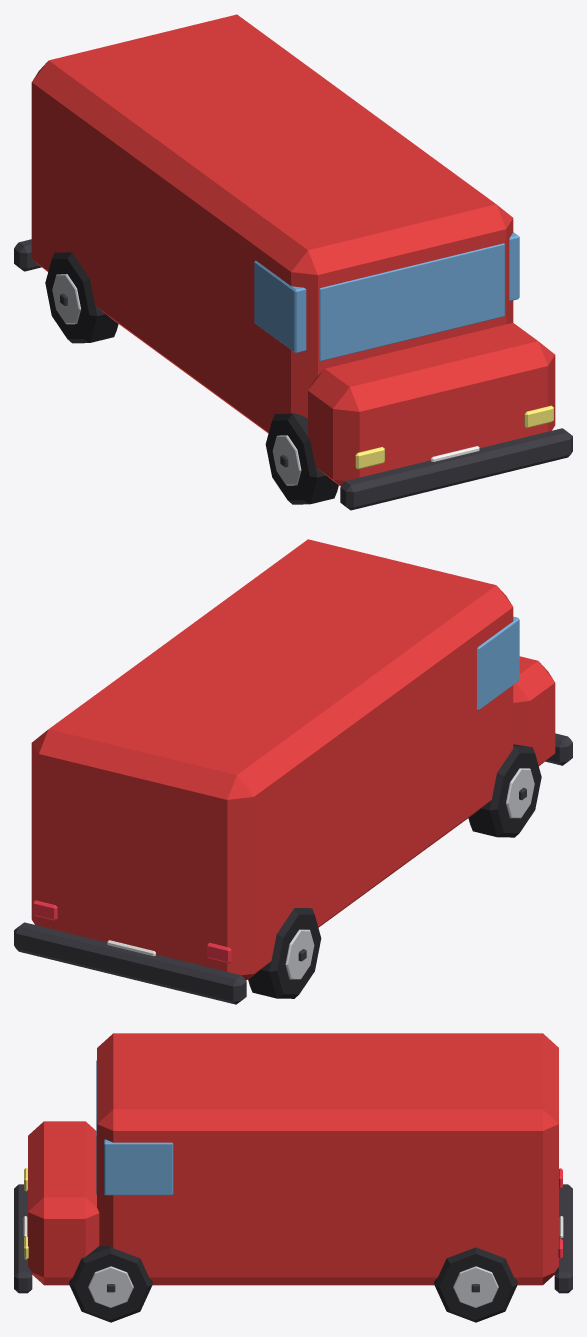
File: RedVan.fbx
3 renders of one model, top to bottom at view 1: azimuth 30°, elevation 25°; view 2: azimuth 150°, elevation 25°; view 3: azimuth 270°, elevation 25°, orthographic. The views are drawn at different scales.
Visible parts, largest first — view 1: RedVan, RedVan_WheelFR, RedVan_WheelBR; view 2: RedVan, RedVan_WheelFR, RedVan_WheelBR; view 3: RedVan, RedVan_WheelFL, RedVan_WheelBL.
Boxes of the visible parts, bbox=[...] form: RedVan: bbox=[14, 14, 572, 510]; RedVan_WheelFR: bbox=[265, 413, 338, 504]; RedVan_WheelBR: bbox=[45, 252, 118, 343]; RedVan: bbox=[14, 539, 572, 1004]; RedVan_WheelFR: bbox=[468, 744, 541, 837]; RedVan_WheelBR: bbox=[248, 908, 321, 998]; RedVan: bbox=[14, 1033, 572, 1293]; RedVan_WheelFL: bbox=[69, 1245, 152, 1322]; RedVan_WheelBL: bbox=[434, 1247, 517, 1322].
Bounding box in the file's own units: 5.02 × 4.93 × 12.1.
Materials: 1 (1 with a texture image).
